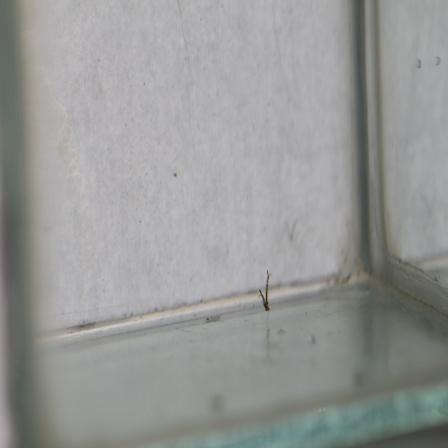Jentik-Nyamuk: (256, 267, 273, 317)
